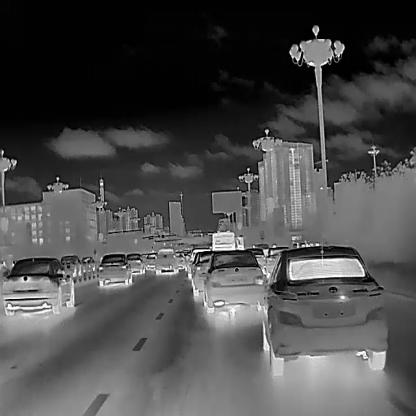bus: (211, 229, 234, 250), (234, 235, 244, 249)
car: (260, 245, 389, 377), (0, 256, 74, 317), (202, 249, 266, 313), (189, 250, 217, 297), (97, 252, 131, 287), (186, 247, 210, 279), (154, 247, 179, 275), (265, 245, 289, 273), (58, 254, 82, 276), (125, 252, 145, 274), (245, 247, 266, 266), (144, 251, 158, 271), (80, 256, 95, 270), (174, 250, 184, 269)
